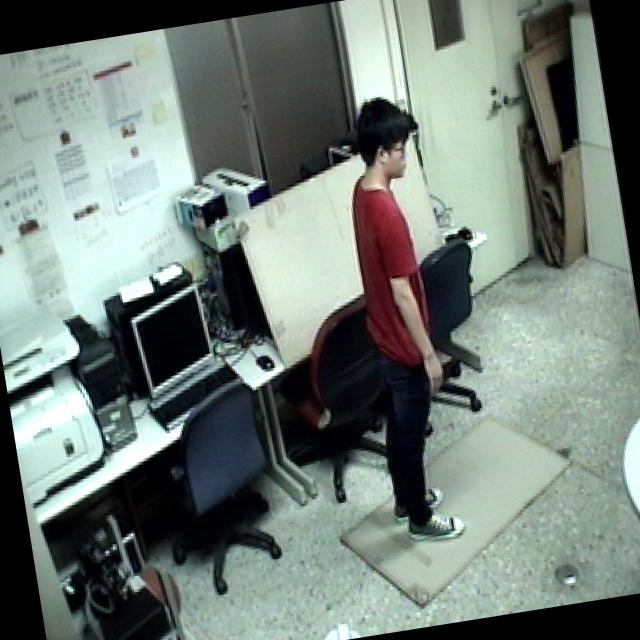stand: (319, 79, 486, 566)
